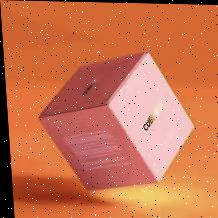cube: (34, 51, 197, 193)
